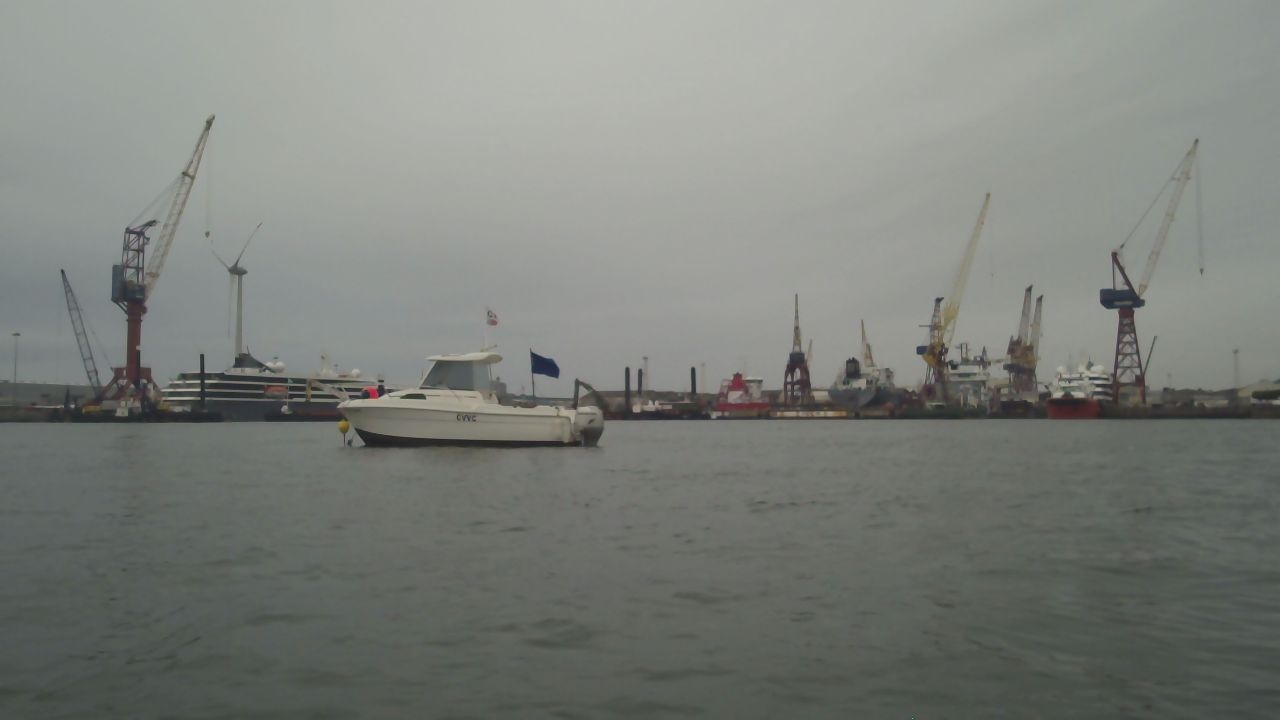Container Ship: (712, 365, 773, 419)
